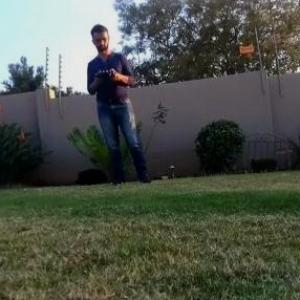follow: (85, 15, 159, 190)
